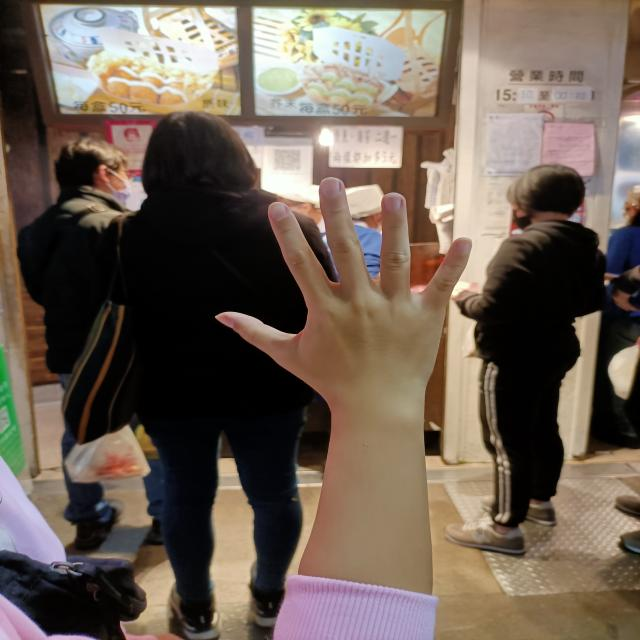hand: (215, 175, 473, 400)
